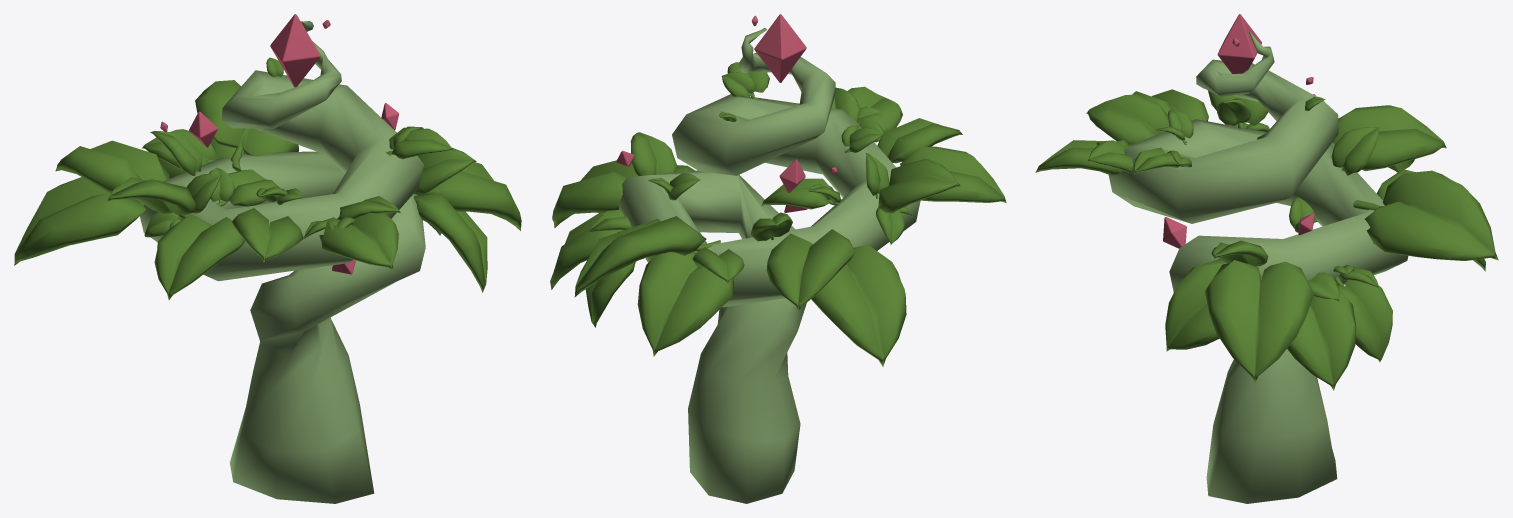
The model's file is Mesh_CropTemp_Stage3.fbx.
The picture shows the model from 3 angles, left to right: view 1: azimuth 30°, elevation 25°; view 2: azimuth 150°, elevation 25°; view 3: azimuth 270°, elevation 25°; orthographic projection. The views are drawn at different scales.
Visible parts, largest first — view 1: cropstage3; view 2: cropstage3; view 3: cropstage3.
Boxes of the visible parts, <box> form: cropstage3: <box>14,14,521,503</box>; cropstage3: <box>550,14,1006,503</box>; cropstage3: <box>1035,14,1498,503</box>.
Bounding box in the file's own units: 35.15 × 34.87 × 37.62.
